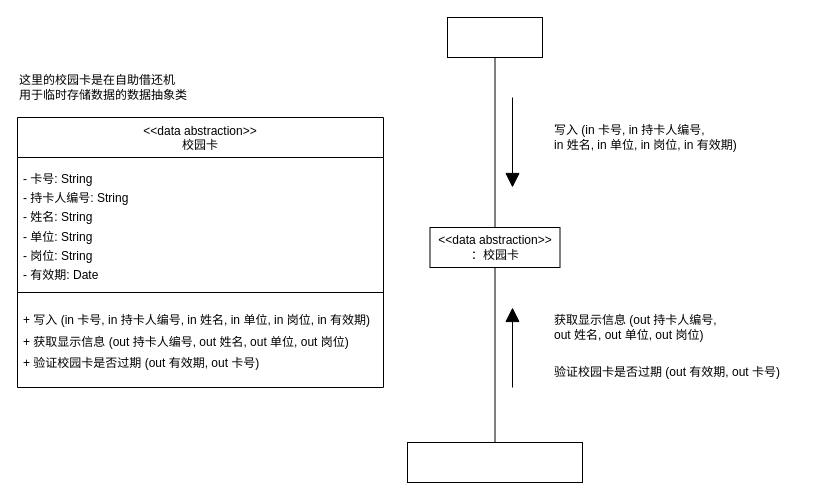
Image size: 820x500. Some labels were removed from this diagram. The shapes that lost their labels are listed below. From the top down, each one's centre as x and y in pixels, then its label:
At point 494,37: "<<I/O>> ：读卡器接口".
At point 494,462: "<<state dependent control>> ：自助借还机控制".
